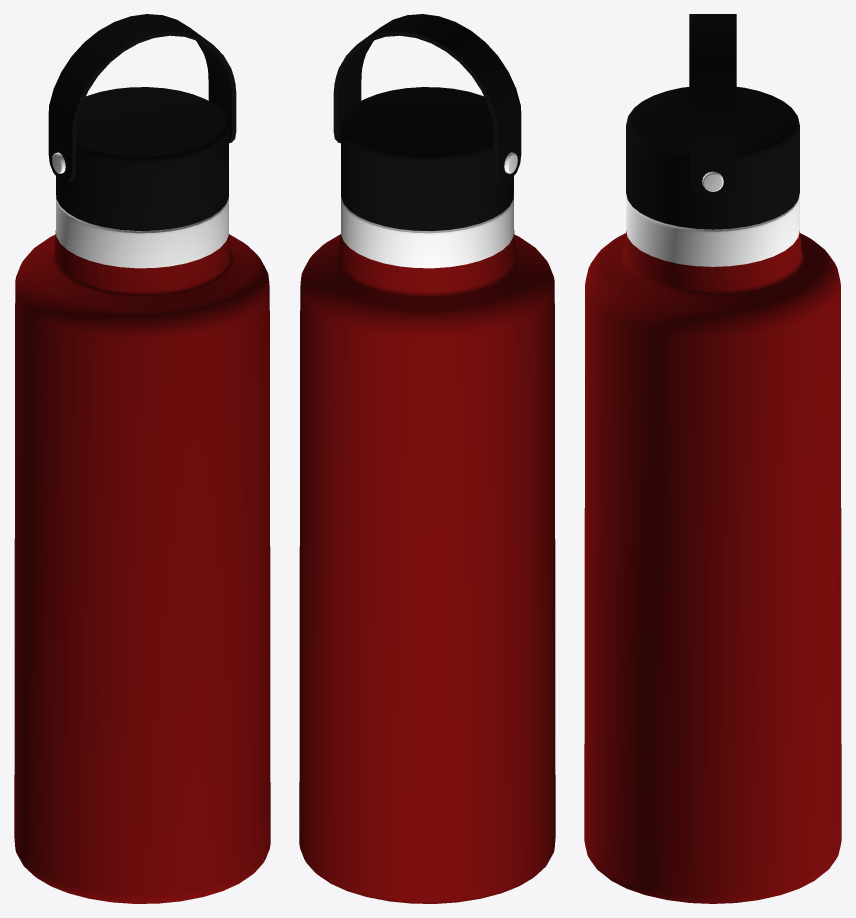
The model's file is water_bottle.obj.
The picture shows the model from 3 angles, left to right: view 1: azimuth 30°, elevation 25°; view 2: azimuth 150°, elevation 25°; view 3: azimuth 270°, elevation 25°; orthographic projection.
Visible parts, largest first — view 1: obj1, obj3, obj4, obj2; view 2: obj1, obj3, obj4, obj2; view 3: obj1, obj3, obj4, obj2.
Boxes of the visible parts, x1=… form: obj1: x1=14, y1=230, x2=270, y2=903; obj3: x1=56, y1=87, x2=228, y2=230; obj4: x1=48, y1=14, x2=236, y2=182; obj2: x1=56, y1=196, x2=228, y2=268; obj1: x1=299, y1=230, x2=555, y2=903; obj3: x1=341, y1=87, x2=513, y2=230; obj4: x1=333, y1=14, x2=521, y2=182; obj2: x1=341, y1=196, x2=513, y2=268; obj1: x1=584, y1=231, x2=841, y2=903; obj3: x1=626, y1=87, x2=799, y2=229; obj4: x1=689, y1=14, x2=736, y2=198; obj2: x1=626, y1=195, x2=799, y2=266.
Size of the model in its own units: 2 by 7.14 by 2.
